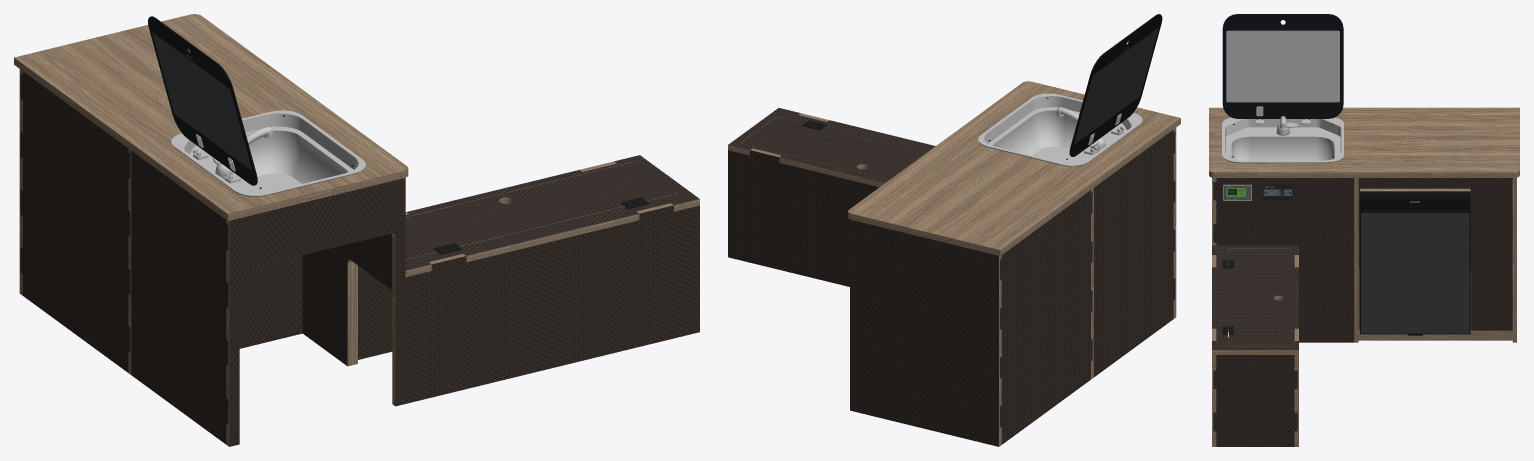
File: front-module-rear-140-hexa.glb
The picture shows the model from 3 angles, left to right: view 1: azimuth 30°, elevation 25°; view 2: azimuth 150°, elevation 25°; view 3: azimuth 270°, elevation 25°; orthographic projection. The views are drawn at different scales.
Visible parts, largest first — view 1: Forward end panel -15mm with top tenons_1, ボディ61_0, Back panel - 15mm with tenons_0.002, Back panel - 15mm with tenons_0.001, Forward end panel -15mm with top tenons_1.001, ボディ56_1, Stainless basin with rear faucet ledge_0, Front panel - 15mm with tenons_1.001, Gray ceramic printed field approximation_0, Forward end panel -15mm with top tenons_1.002, ボディ57_1, Black safety glass_0 (+5 smaller); view 2: Rearward end panel -15mm with top tenons_1.001, ボディ61_0, Back panel - 15mm with tenons_0.002, Back panel - 15mm with tenons_0.001, Rearward end panel -15mm with top tenons_1, Stainless basin with rear faucet ledge_0, ボディ56_1, Gray ceramic printed field approximation_0, ボディ57_1, Black safety glass_0, ボディ57_0, Forward end panel -15mm with top tenons_0.001 (+1 smaller); view 3: ボディ61_0, Front panel - 15mm with tenons_1.001, Dark gray frameless face_0, ボディ15 (1)_0, Front panel - 15mm with tenons_0, ボディ56_1, Rear extension removable infill - 140x540x15mm_1, Stainless basin with rear faucet ledge_0, Black safety glass_0, ボディ57_1, Door black surround with full-width recessed handle_0, ボディ53_1 (+10 smaller).
Boxes of the visible parts, bbox=[...] form: Forward end panel -15mm with top tenons_1: bbox=[405, 205, 699, 403]; ボディ61_0: bbox=[14, 14, 408, 220]; Back panel - 15mm with tenons_0.002: bbox=[20, 71, 130, 372]; Back panel - 15mm with tenons_0.001: bbox=[131, 151, 228, 444]; Forward end panel -15mm with top tenons_1.001: bbox=[229, 177, 405, 446]; ボディ56_1: bbox=[405, 162, 676, 258]; Stainless basin with rear faucet ledge_0: bbox=[171, 110, 365, 196]; Front panel - 15mm with tenons_1.001: bbox=[302, 234, 392, 365]; Gray ceramic printed field approximation_0: bbox=[152, 32, 251, 170]; Forward end panel -15mm with top tenons_1.002: bbox=[239, 255, 302, 348]; ボディ57_1: bbox=[405, 155, 699, 270]; Black safety glass_0: bbox=[148, 16, 257, 185]; Rearward end panel -15mm with top tenons_1.001: bbox=[850, 219, 998, 446]; ボディ61_0: bbox=[848, 81, 1180, 255]; Back panel - 15mm with tenons_0.002: bbox=[1000, 190, 1092, 444]; Back panel - 15mm with tenons_0.001: bbox=[1093, 129, 1175, 377]; Rearward end panel -15mm with top tenons_1: bbox=[728, 150, 878, 286]; Stainless basin with rear faucet ledge_0: bbox=[978, 93, 1142, 166]; ボディ56_1: bbox=[742, 117, 925, 179]; Gray ceramic printed field approximation_0: bbox=[1074, 27, 1158, 143]; ボディ57_1: bbox=[728, 108, 935, 182]; Black safety glass_0: bbox=[1069, 14, 1162, 156]; ボディ57_0: bbox=[728, 117, 925, 187]; Forward end panel -15mm with top tenons_0.001: bbox=[1173, 128, 1176, 318]; ボディ61_0: bbox=[1209, 107, 1519, 177]; Front panel - 15mm with tenons_1.001: bbox=[1213, 178, 1354, 342]; Dark gray frameless face_0: bbox=[1361, 213, 1469, 333]; ボディ15 (1)_0: bbox=[1226, 30, 1339, 102]; Front panel - 15mm with tenons_0: bbox=[1213, 355, 1297, 446]; ボディ56_1: bbox=[1228, 249, 1291, 346]; Rear extension removable infill - 140x540x15mm_1: bbox=[1472, 188, 1512, 330]; Stainless basin with rear faucet ledge_0: bbox=[1222, 117, 1343, 162]; Black safety glass_0: bbox=[1222, 14, 1343, 118]; ボディ57_1: bbox=[1212, 245, 1298, 349]; Door black surround with full-width recessed handle_0: bbox=[1360, 191, 1470, 334]; ボディ53_1: bbox=[1358, 178, 1512, 188].
Bounding box in the file's own units: 1.37 × 1.02 × 1.07.
Materials: 30 (4 with a texture image).
